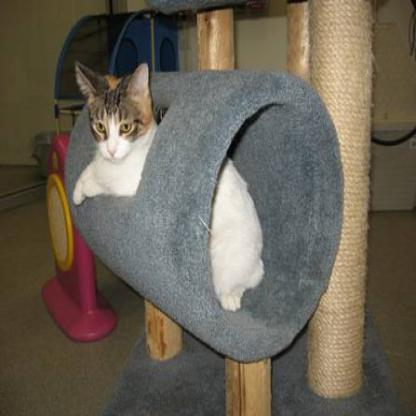cat: (56, 48, 226, 238)
